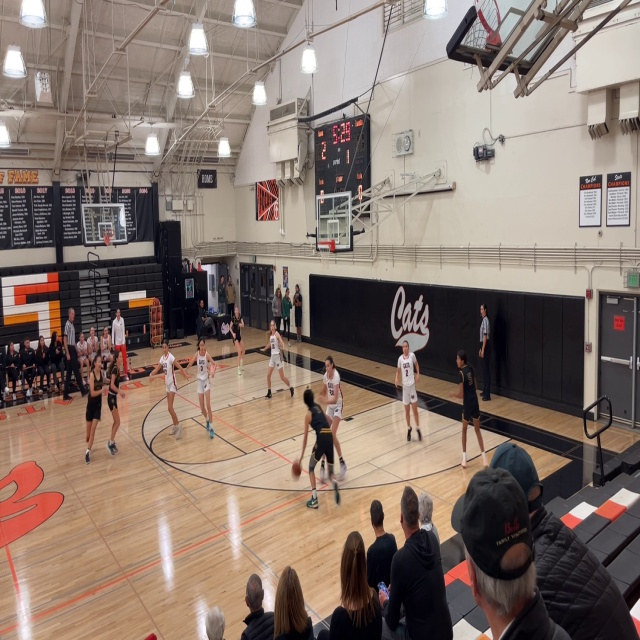Basketball: (291, 461, 301, 476)
